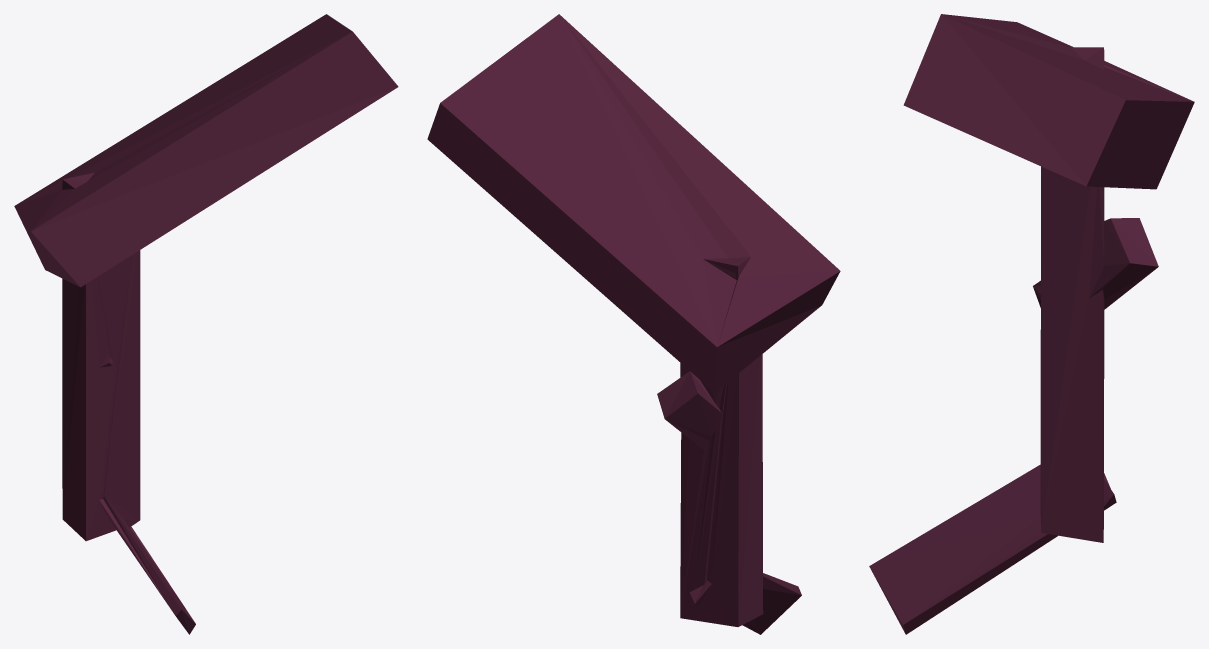
3 views of the same model, side by side, from view 1: azimuth 30°, elevation 25°; view 2: azimuth 150°, elevation 25°; view 3: azimuth 270°, elevation 25° (orthographic). The views are drawn at different scales.
Parts seen in each view (by area): view 1: 651_Cube.2617; view 2: 651_Cube.2617; view 3: 651_Cube.2617.
Boxes of the visible parts, x1,y1,x2,y2 form: 651_Cube.2617: [14, 14, 398, 634]; 651_Cube.2617: [427, 14, 840, 634]; 651_Cube.2617: [869, 14, 1194, 634].
Bounding box in the file's own units: 13.35 × 19.36 × 7.76.
